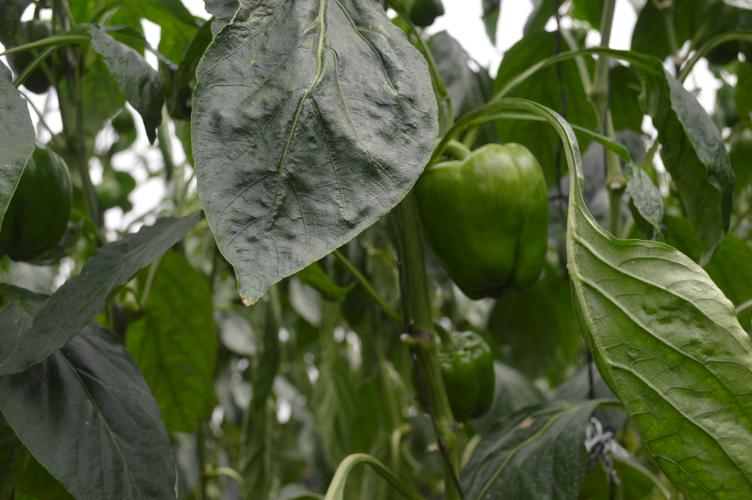BellPepper: (412, 144, 551, 295), (3, 144, 71, 257), (435, 327, 495, 418)
